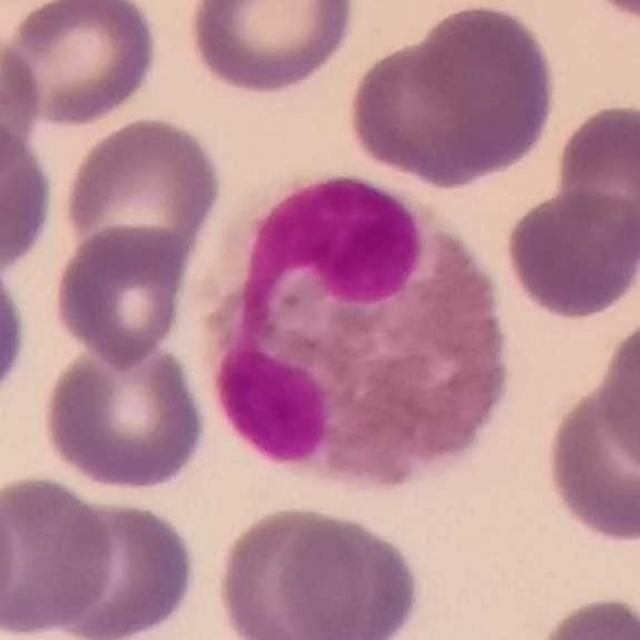Eosinophil: (191, 160, 511, 494)
RBC: (58, 112, 226, 275), (38, 337, 211, 494), (408, 0, 561, 176), (340, 43, 507, 188), (210, 501, 381, 640), (45, 489, 196, 640), (49, 220, 196, 370), (0, 0, 163, 129), (1, 468, 118, 638), (501, 185, 639, 324), (275, 519, 425, 638), (538, 374, 640, 548), (208, 335, 336, 473), (182, 0, 360, 99), (550, 97, 640, 266), (0, 118, 58, 277), (594, 305, 640, 482), (0, 22, 45, 178), (524, 590, 640, 640), (0, 249, 31, 411), (0, 468, 21, 640), (572, 0, 640, 31)
